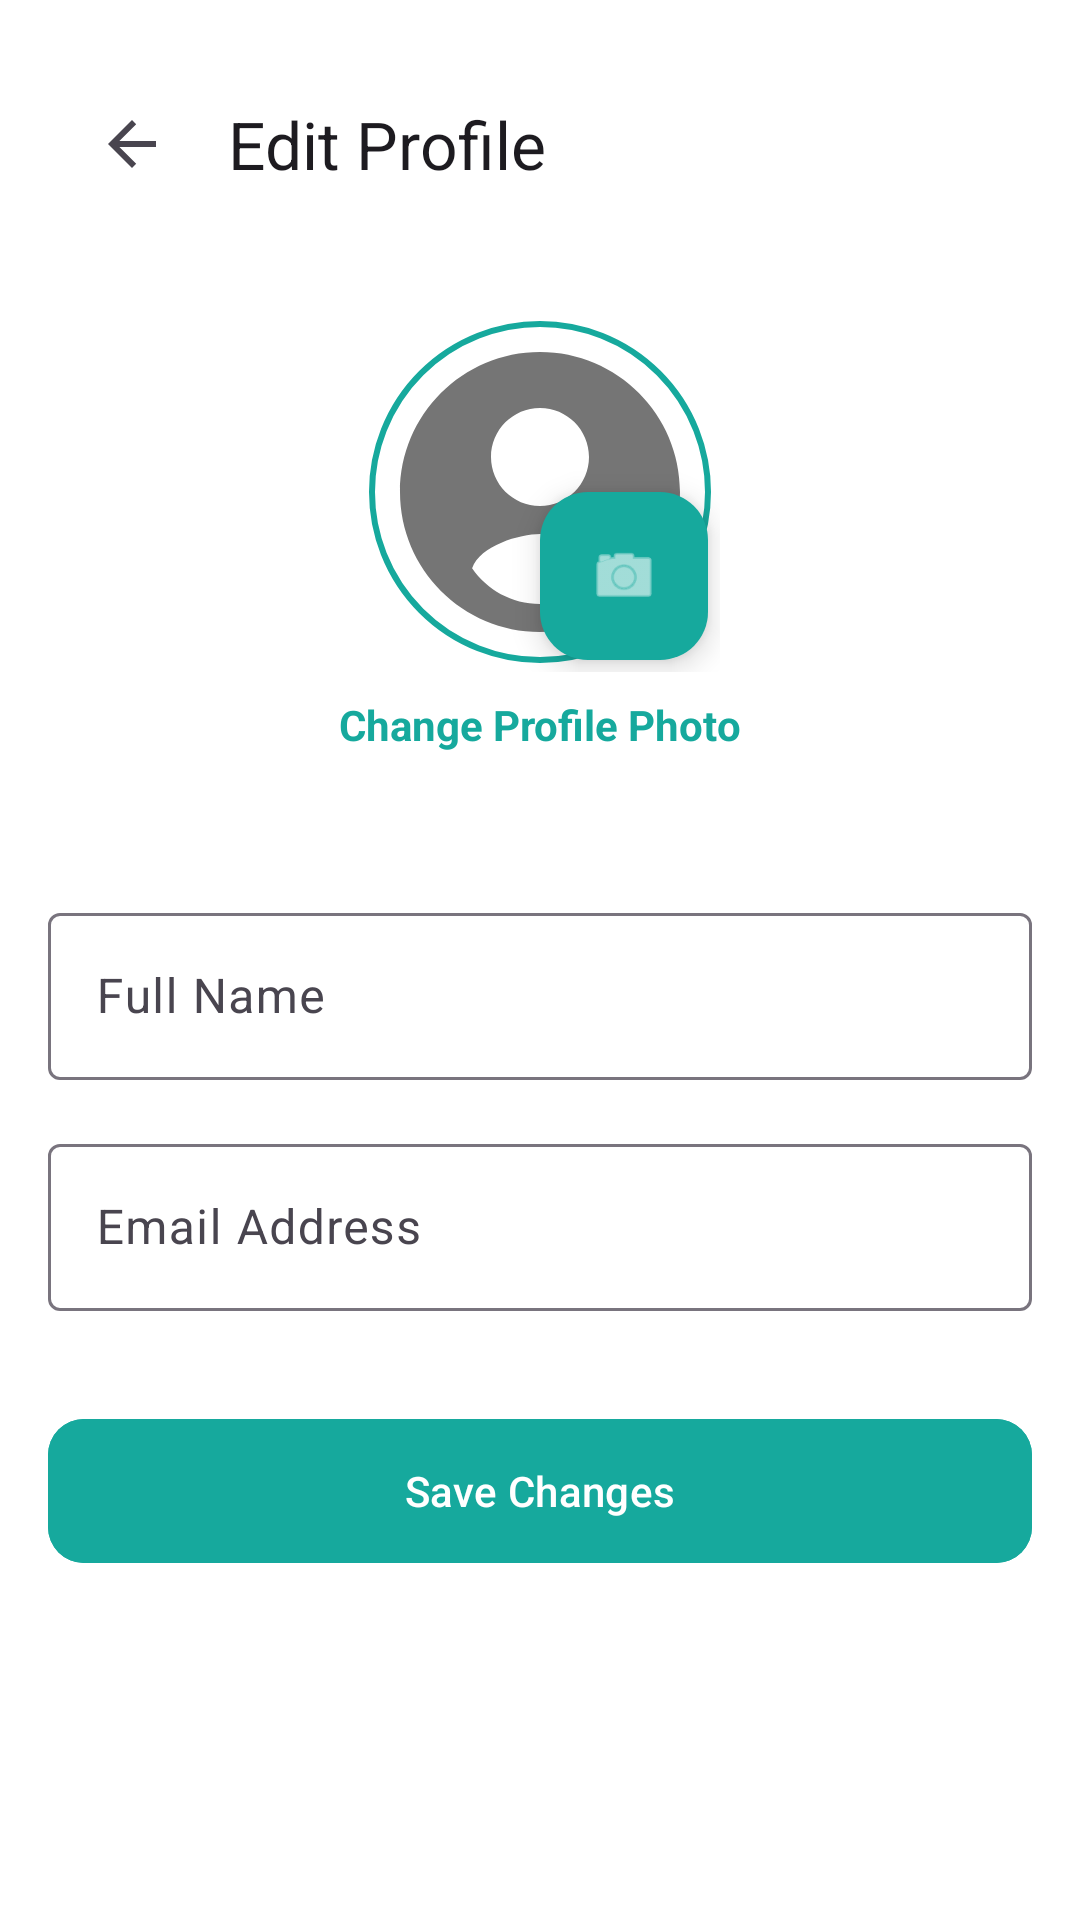

Point at icon controls on the screen. Image size 1080px x 1920px, points as [x,y].
camera: [624,576]
